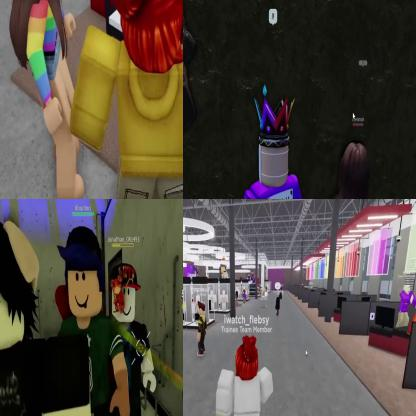Roblox-Avatar: (70, 1, 183, 199), (1, 202, 96, 416), (9, 1, 85, 199), (56, 226, 132, 416), (226, 82, 305, 199), (110, 263, 158, 416), (216, 335, 275, 416), (329, 143, 377, 199), (397, 286, 416, 331)
